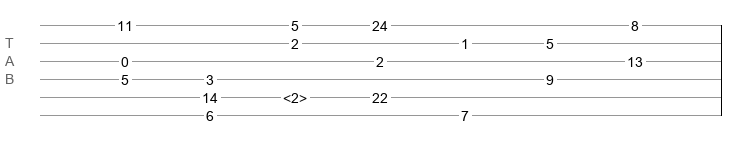0: (121, 54, 129, 64)
1: (461, 36, 469, 46)
11: (117, 18, 133, 28)
13: (627, 54, 643, 64)
14: (202, 90, 218, 100)
2: (291, 36, 299, 46), (376, 54, 384, 64)
22: (372, 90, 388, 100)
24: (372, 18, 388, 28)
3: (206, 72, 214, 82)
5: (121, 72, 129, 82), (291, 18, 299, 28), (546, 36, 554, 46)
6: (206, 108, 214, 118)
7: (461, 108, 469, 118)
8: (631, 18, 639, 28)
9: (546, 72, 554, 82)
harmonic: (283, 90, 307, 100)
